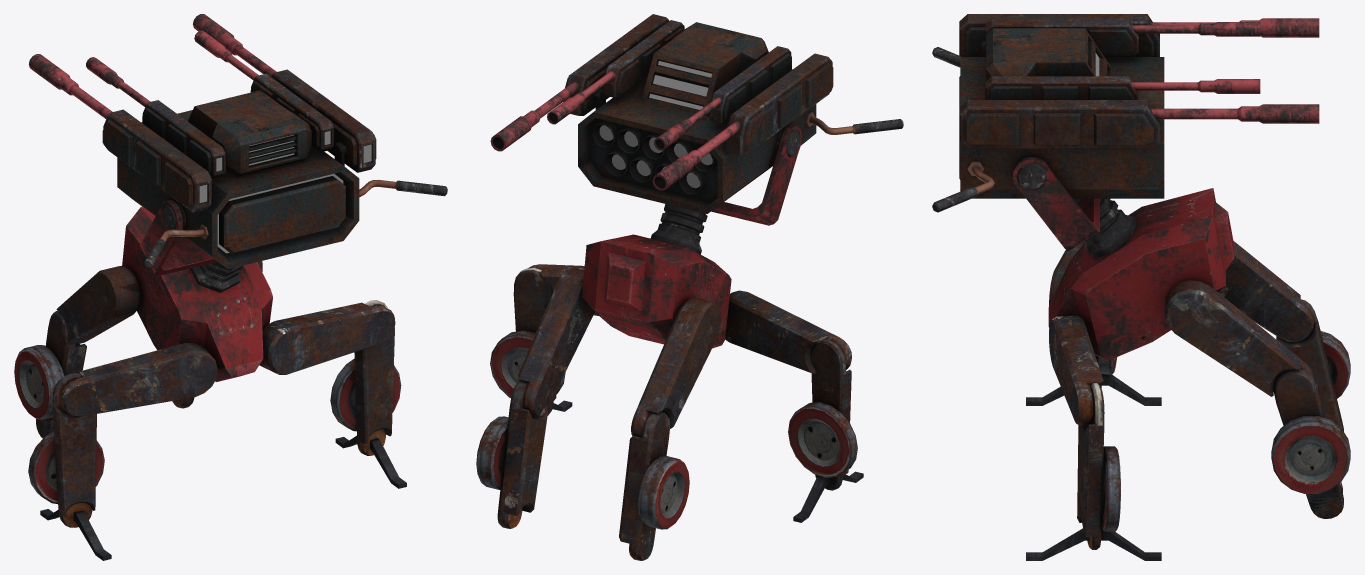
File: Artillery.FBX
3 views of the same model, side by side, from view 1: azimuth 30°, elevation 25°; view 2: azimuth 150°, elevation 25°; view 3: azimuth 270°, elevation 25° (orthographic). The views are drawn at different scales.
Visible parts, largest first — view 1: ArtilleryBase, TurretHead; view 2: ArtilleryBase, TurretHead; view 3: ArtilleryBase, TurretHead.
Boxes of the visible parts, bbox=[...] form: ArtilleryBase: bbox=[14, 200, 406, 560]; TurretHead: bbox=[29, 14, 447, 268]; ArtilleryBase: bbox=[476, 125, 863, 560]; TurretHead: bbox=[490, 14, 903, 213]; ArtilleryBase: bbox=[1012, 157, 1350, 560]; TurretHead: bbox=[932, 14, 1319, 212].
Size of the model in its own units: 172 by 182 by 157.
